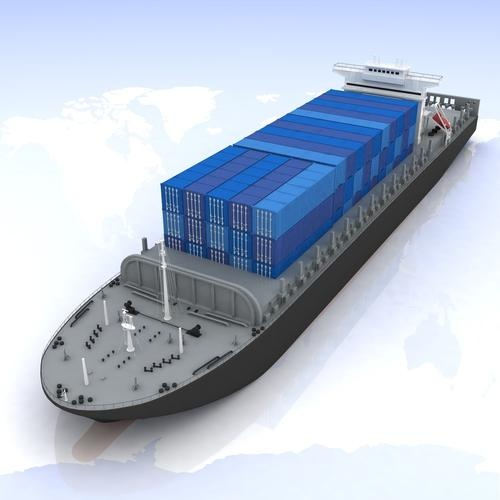Cargoship: (31, 51, 480, 420)
